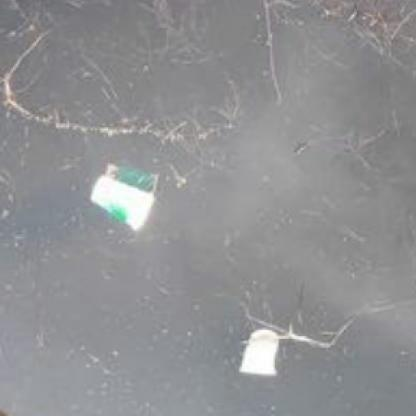Trash: (83, 174, 158, 232), (236, 328, 284, 380)
